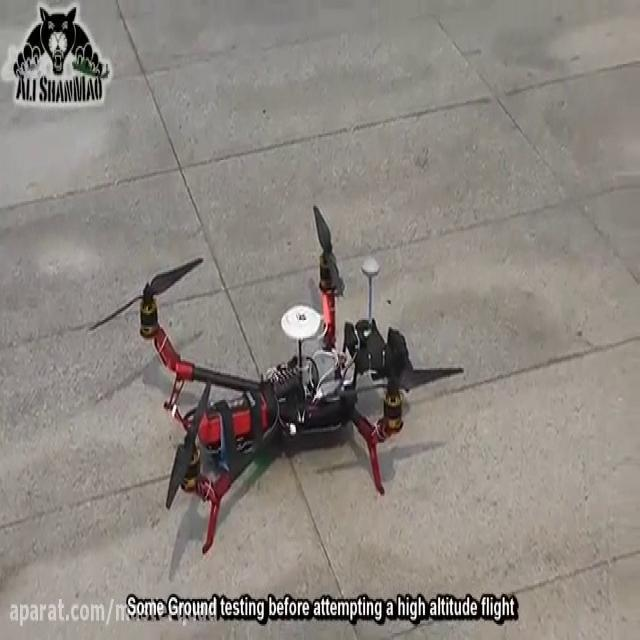drone: (85, 197, 465, 564)
